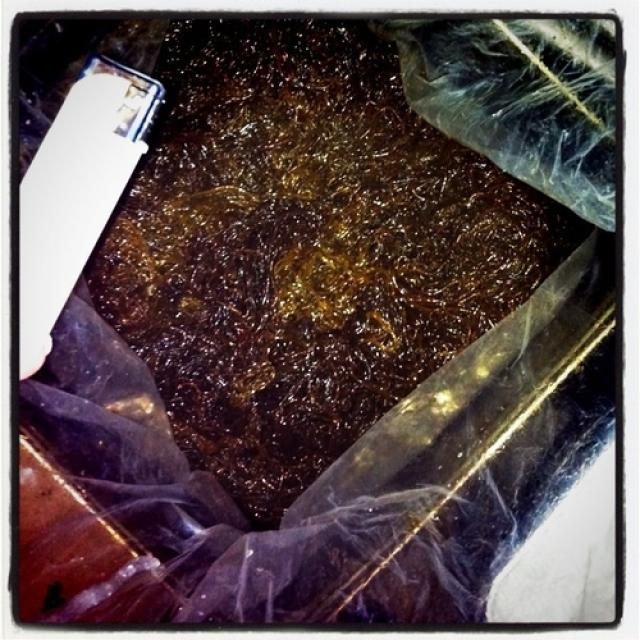蔬菜料理: (33, 23, 610, 586)
